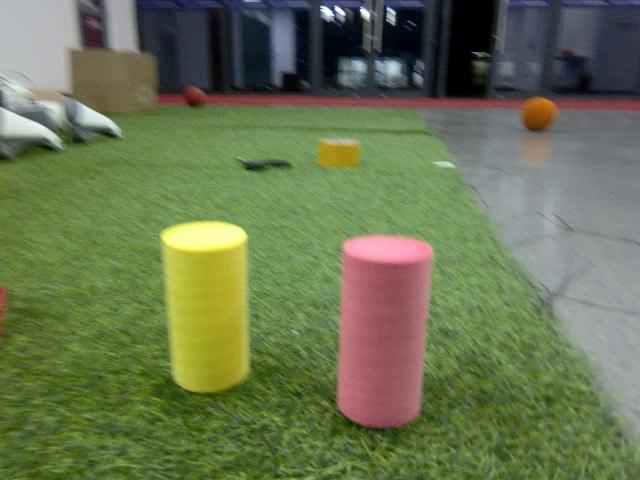orange_ball: (515, 93, 559, 134)
red_cylinder: (339, 232, 432, 431)
yellow_cylinder: (158, 218, 258, 394)
